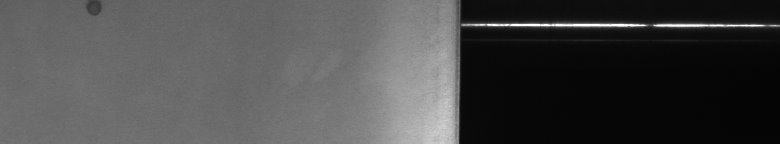fi: (80, 4, 104, 24)
